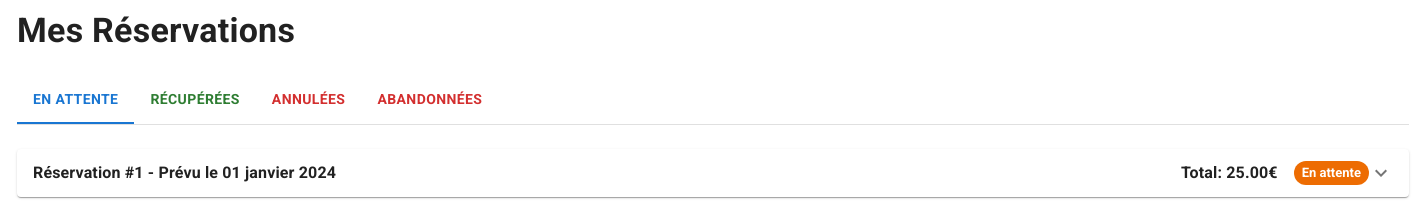
Test case: ReservationsPage › displays reservation details with correct status labels
The width and height of the screenshot is (1427, 216).
Check: the tab "En attente" is shown, box left=17, top=76, right=134, bottom=124
Click the tab "Récupérées" at (195, 100), box left=134, top=76, right=256, bottom=124
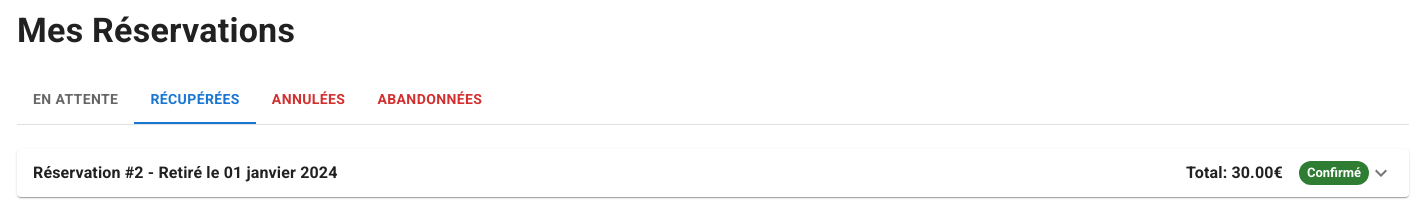
Check: the text "Confirmé" is shown, box left=1307, top=166, right=1361, bottom=180
Click the tab "Abandonnées" at (430, 100), box left=361, top=76, right=498, bottom=124
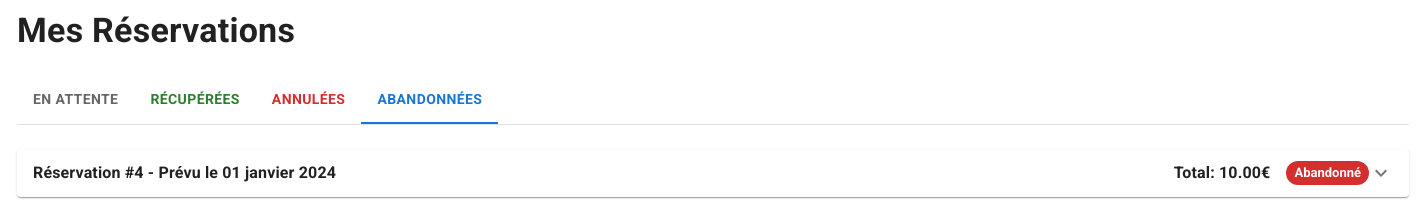
Check: the text "Abandonné" is shown, box left=1294, top=166, right=1361, bottom=180
